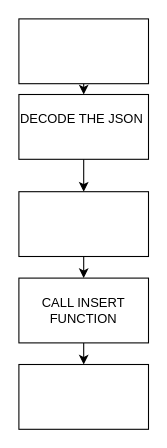
The diagram is 167 pixels wide and 448 high, and some of its shapes have lost their labels. Each missing label, with the box of its shape:
CREATE A CONTEXT TIME OUT: (18, 191, 148, 256)
CreateEventHandler: (18, 18, 148, 84)
